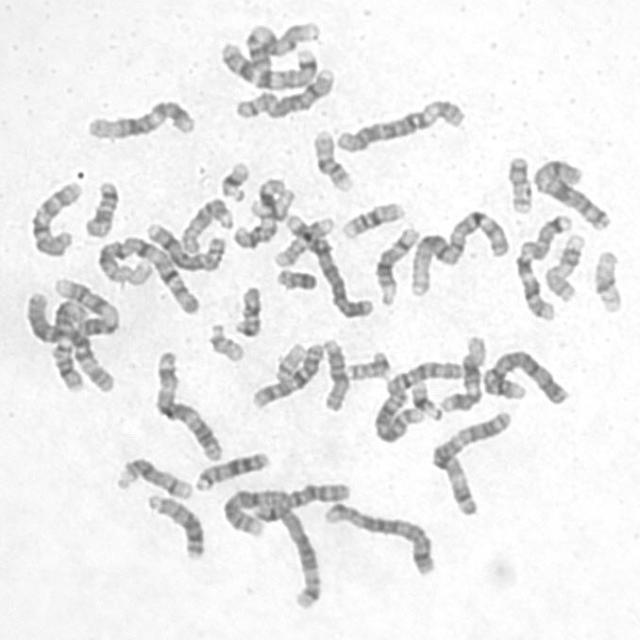A1: (405, 203, 512, 298), (91, 230, 202, 316)
A2: (218, 477, 354, 540), (370, 356, 465, 444)
A3: (425, 404, 513, 518), (149, 345, 226, 463)
B4: (280, 208, 374, 320), (478, 344, 570, 406)
B5: (318, 497, 437, 578), (248, 500, 324, 611)
C10: (246, 336, 326, 411), (25, 175, 83, 259)
C11: (228, 173, 291, 251), (47, 296, 89, 395)
C12: (81, 94, 197, 142), (435, 329, 488, 414)
C6: (21, 287, 116, 394), (332, 92, 468, 154)
C7: (511, 210, 575, 324), (215, 36, 319, 91)
C8: (230, 62, 338, 122), (142, 217, 226, 274)
C9: (48, 272, 121, 337), (240, 15, 323, 68)
D13: (140, 487, 207, 561), (191, 446, 272, 492)
D14: (369, 221, 421, 307), (112, 453, 194, 501)
D15: (176, 192, 234, 254), (317, 332, 351, 413)
E16: (308, 124, 355, 192), (336, 196, 407, 240)
E17: (274, 215, 336, 271), (541, 229, 587, 304)
E18: (79, 176, 121, 238), (234, 287, 262, 339)
F19: (588, 244, 625, 316), (248, 186, 298, 223)
F20: (502, 150, 534, 214), (342, 347, 392, 381)
G21: (406, 376, 445, 422), (214, 156, 251, 202)
G22: (204, 318, 246, 364), (269, 338, 307, 384)
X: (528, 152, 614, 233)
Y: (272, 265, 319, 293)
